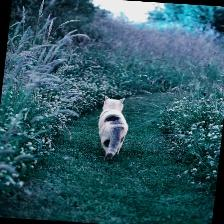kedo: (98, 96, 128, 160)
